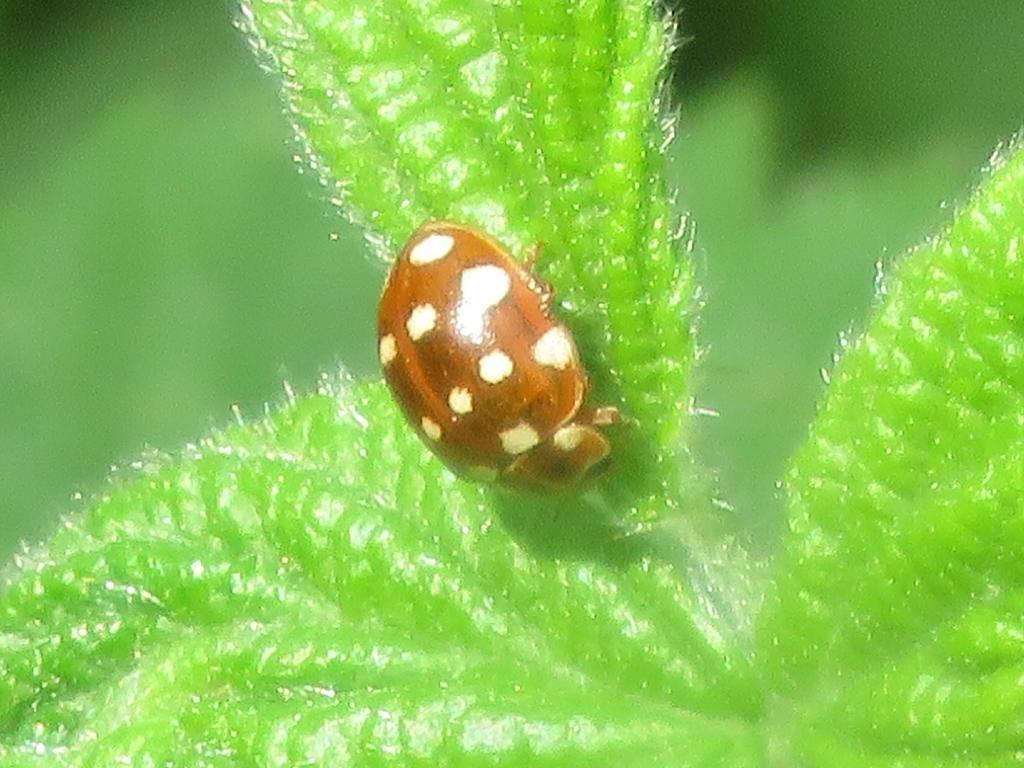ladybug: (373, 213, 629, 505)
